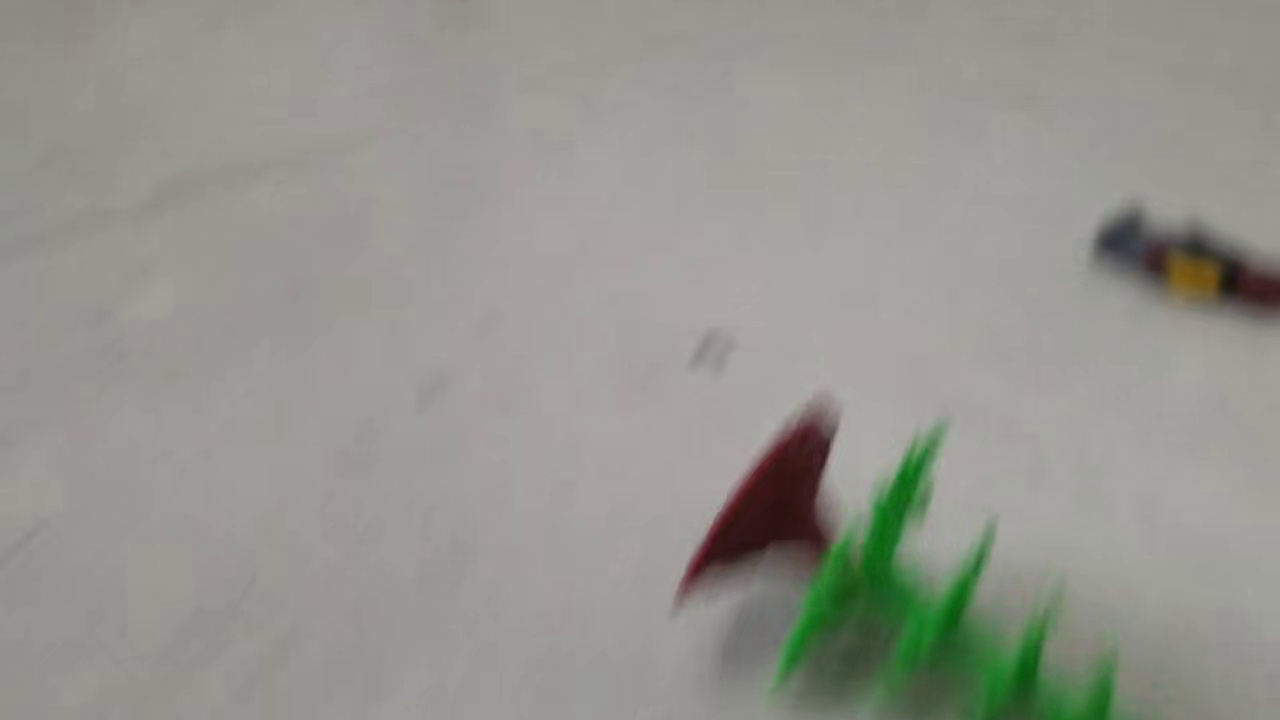people: (1092, 202, 1280, 327)
tree: (664, 383, 1118, 720)
